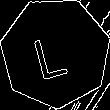L_N: (34, 25, 77, 81)
